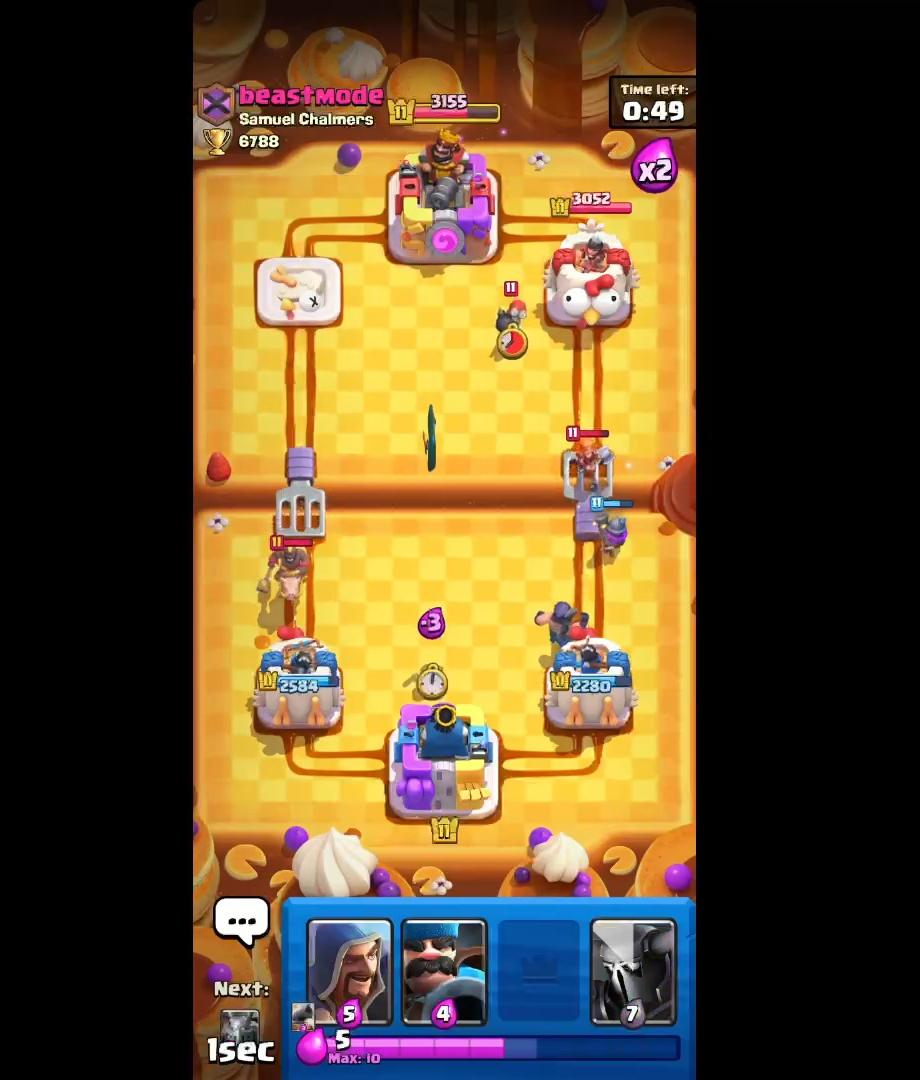Hog Rider: (255, 529, 325, 606)
Valkyrie: (555, 424, 620, 490)
